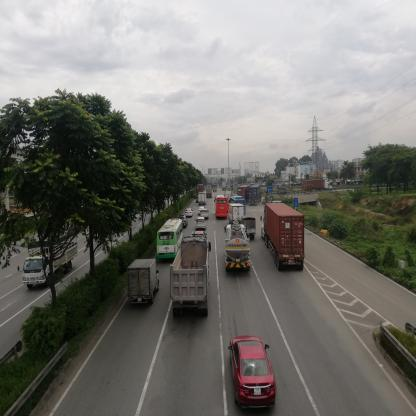bus: (157, 218, 182, 260), (216, 197, 228, 220)
car: (231, 336, 273, 412), (197, 218, 206, 231), (185, 210, 195, 220), (202, 212, 211, 220)
container: (263, 205, 305, 271), (301, 181, 335, 192)
truck: (174, 242, 211, 315), (130, 258, 158, 304), (226, 225, 252, 273), (229, 202, 246, 226), (245, 219, 257, 241), (251, 186, 261, 207)
